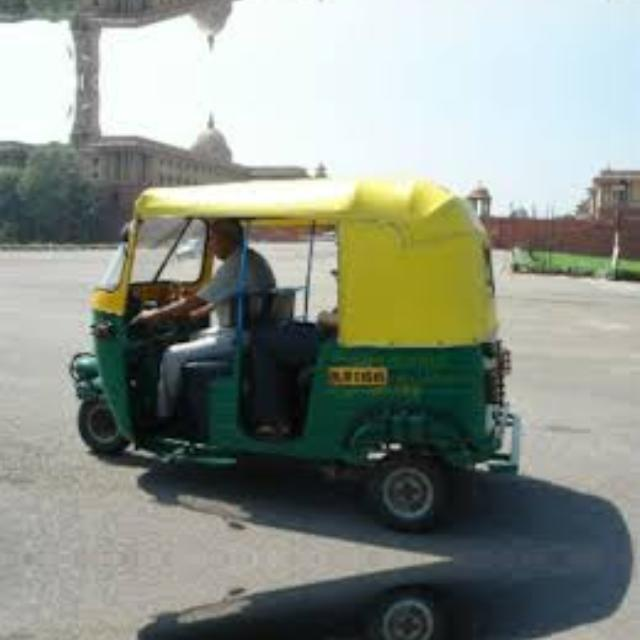obstacle: (52, 150, 552, 548), (52, 569, 551, 640), (52, 0, 551, 12)
